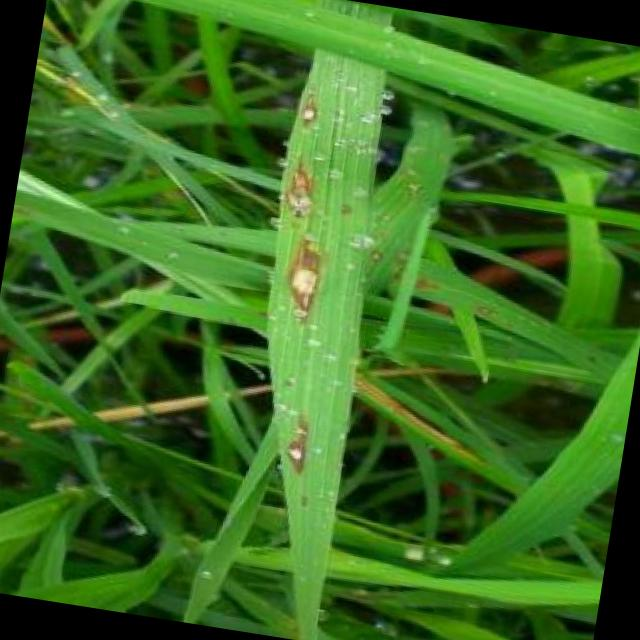Rice_Blast: (275, 148, 350, 234), (276, 222, 338, 314), (268, 409, 333, 493), (281, 73, 347, 150)
